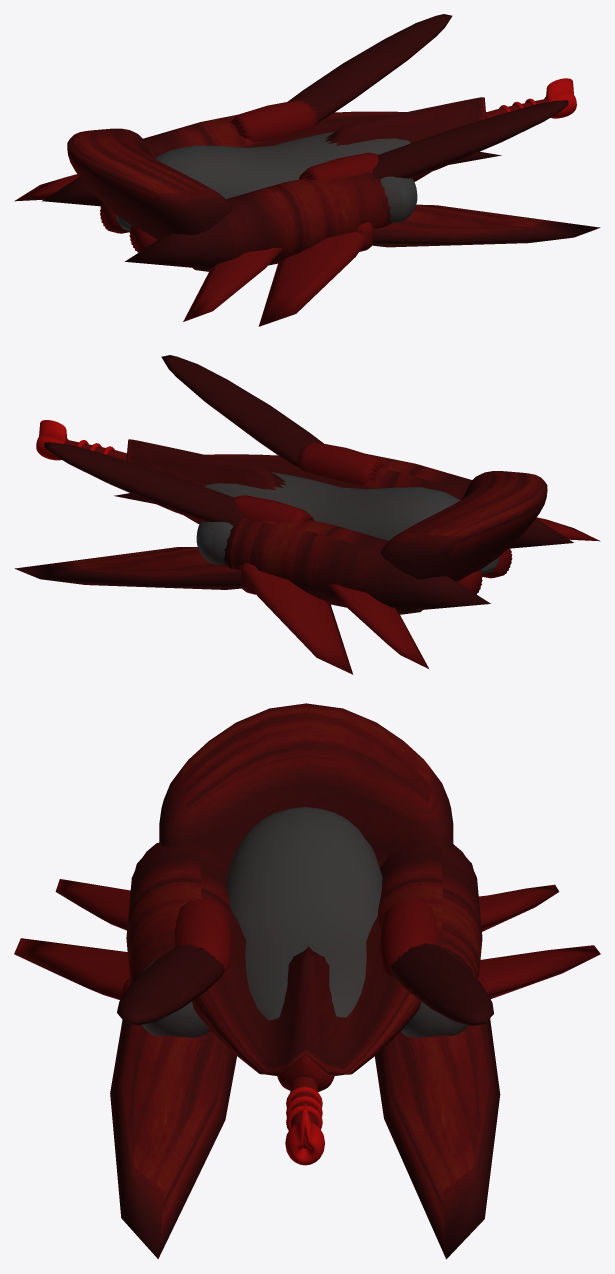
File: crim_medium.fbx
The picture shows the model from 3 angles, top to bottom: view 1: azimuth 30°, elevation 25°; view 2: azimuth 150°, elevation 25°; view 3: azimuth 270°, elevation 25°; orthographic projection. The views are drawn at different scales.
Parts seen in each view (by area): view 1: sideBarrel1, back, cockpit, arms1, arms7, body, arms4, arms3, sideBarrel, jet1 (×2), set3_light:arms3, set3_light:jet1 (+4 smaller); view 2: sideBarrel, back, cockpit, arms2, arms4, body, arms7, arms6, sideBarrel1, set3_light:arms4, set3_light:jet1, jet1 (+3 smaller); view 3: back, cockpit, arms2, arms1, body, sideBarrel1, sideBarrel, arms7, arms4, arms3, arms6, jet1 (+7 smaller).
Boxes of the visible parts, x1,y1,x2,y2 form: sideBarrel1: (125, 172, 392, 271); back: (67, 128, 232, 239); cockpit: (116, 131, 410, 230); arms1: (372, 204, 600, 247); arms7: (372, 100, 568, 179); body: (245, 97, 486, 181); arms4: (287, 14, 452, 122); arms3: (258, 228, 374, 326); sideBarrel: (42, 114, 261, 206); jet1 (×2): (100, 100, 318, 233); set3_light:arms3: (183, 248, 282, 321); set3_light:jet1: (299, 152, 378, 180); sideBarrel: (222, 516, 490, 614); back: (380, 471, 547, 581); cockpit: (205, 472, 499, 573); arms2: (14, 547, 243, 589); arms4: (44, 442, 243, 525); body: (126, 439, 376, 524); arms7: (161, 355, 323, 475); arms6: (237, 565, 353, 674); sideBarrel1: (365, 454, 573, 548); set3_light:arms4: (327, 584, 428, 668); set3_light:jet1: (297, 442, 383, 484); jet1: (234, 495, 314, 523); back: (159, 703, 453, 869); cockpit: (226, 807, 382, 1020); arms2: (375, 1018, 500, 1259); arms1: (110, 1020, 236, 1258); body: (192, 909, 421, 1076); sideBarrel1: (126, 842, 230, 1031); sideBarrel: (377, 844, 482, 1031); arms7: (117, 944, 231, 1025); arms4: (391, 943, 493, 1025); arms3: (14, 938, 129, 999); arms6: (479, 945, 600, 998); jet1: (379, 899, 438, 976).
Size of the model in its own units: 11.09 by 3.27 by 7.79.
